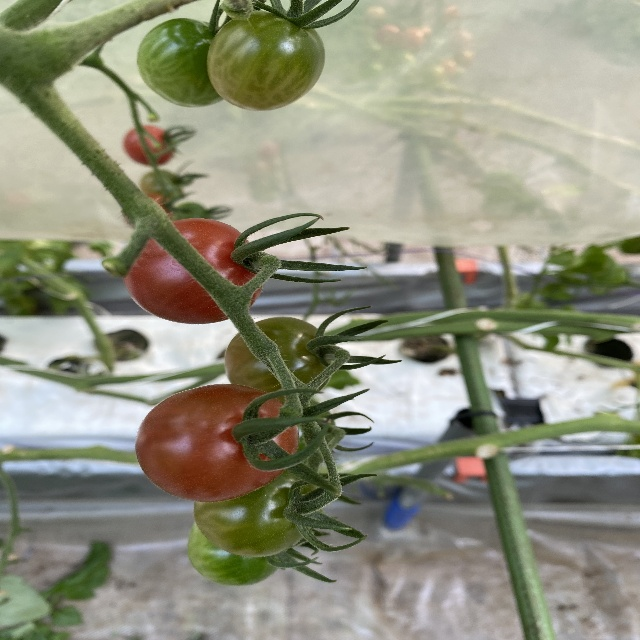l_fully_ripened: (135, 385, 299, 503), (124, 217, 265, 324)
l_green: (194, 469, 322, 558), (136, 18, 223, 108), (186, 518, 283, 587)
l_half_ripened: (205, 10, 325, 111), (225, 316, 331, 403)
